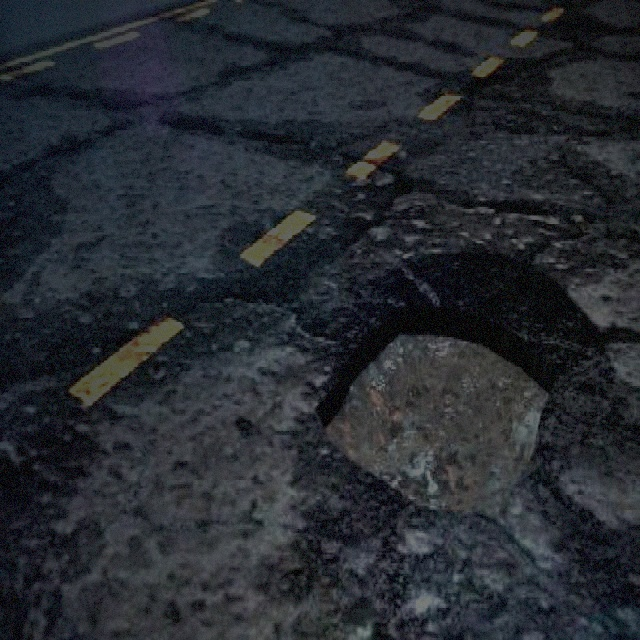pothole: (313, 303, 556, 520)
